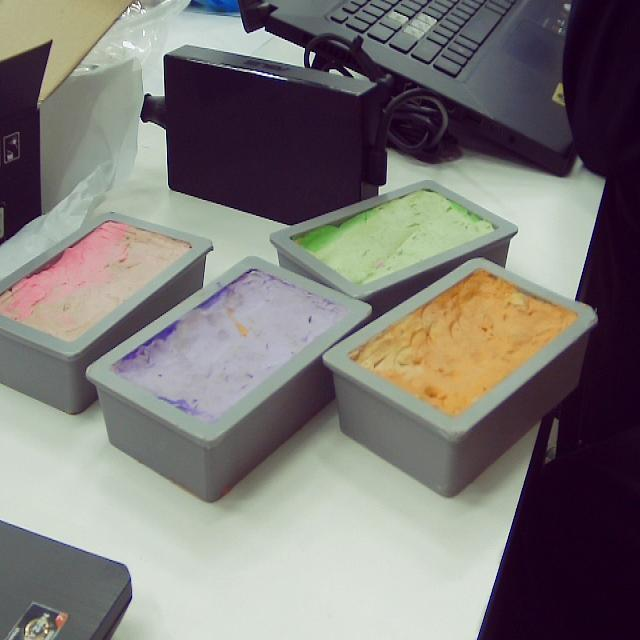block: (86, 254, 367, 502), (318, 256, 594, 499), (3, 209, 217, 415), (271, 178, 517, 323)
